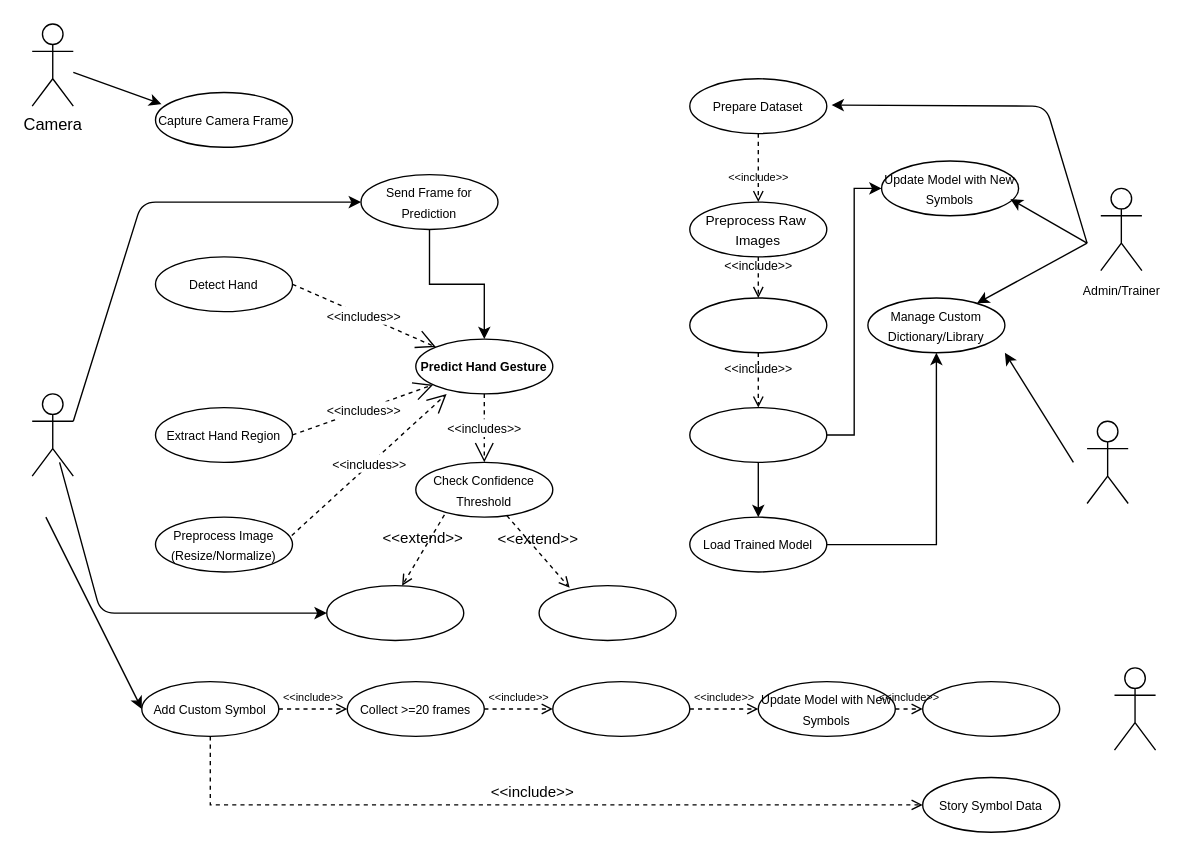
This 1200x856 diagram has some shape labels left out. Each missing label, with the box of its shape:
Custom Dictionary/ Python Library: (1086, 420, 1128, 503)
Database: (1113, 667, 1156, 750)
Extract CNN Embeddings: (551, 680, 690, 736)
Handle Undefined/Rejected Symbol: (538, 584, 676, 640)
Split Train/ Tune/Test Data: (688, 297, 827, 353)
Store Custom Library: (921, 680, 1060, 736)
Test CNN Model: (688, 406, 827, 462)
User: (31, 393, 73, 476)
View Predicted Symbol: (325, 584, 464, 640)
